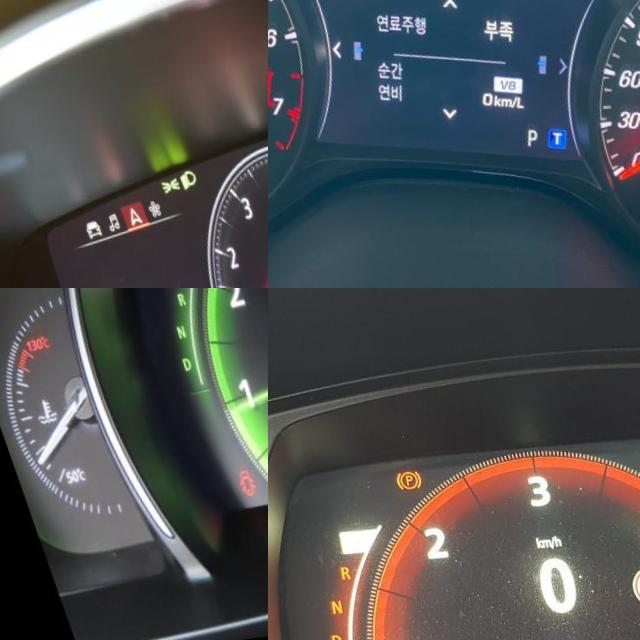Doors: (212, 473, 235, 505)
Low beam: (163, 172, 187, 198)
SideLamp: (146, 181, 169, 200)
